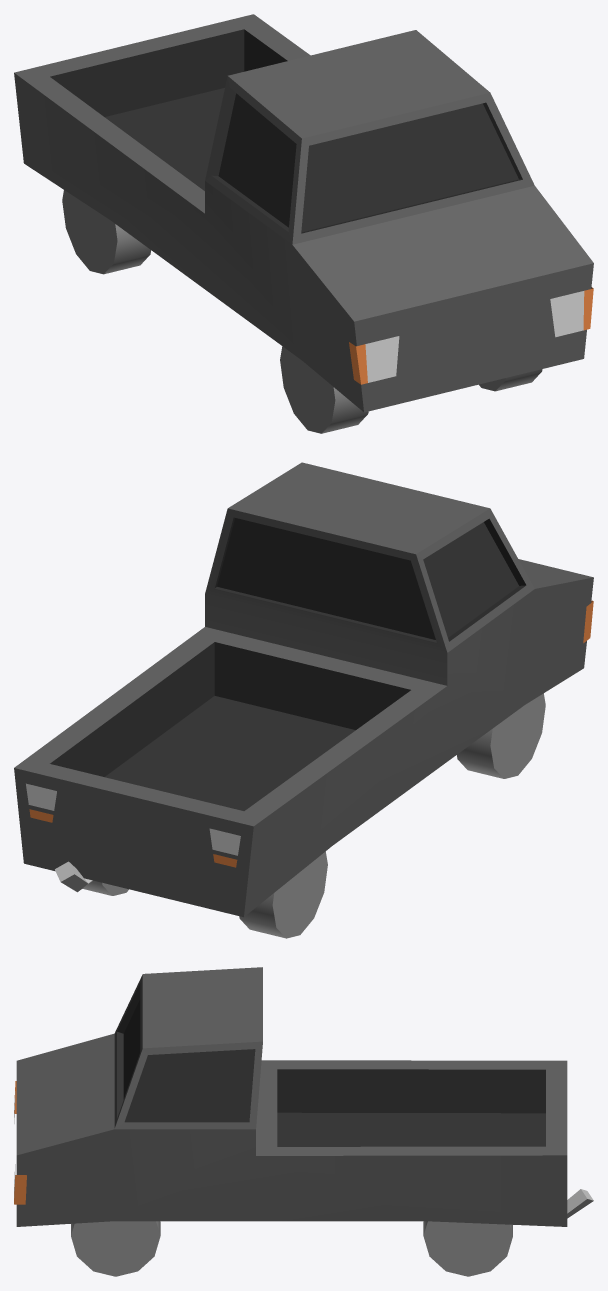
File: pickup_09.fbx
The picture shows the model from 3 angles, top to bottom: view 1: azimuth 30°, elevation 25°; view 2: azimuth 150°, elevation 25°; view 3: azimuth 270°, elevation 25°; orthographic projection. The views are drawn at different scales.
Visible parts, largest first — view 1: pickup_09; view 2: pickup_09; view 3: pickup_09.
Part boxes in pixels (bbox=[...]): pickup_09: bbox=[14, 14, 593, 433]; pickup_09: bbox=[14, 462, 593, 938]; pickup_09: bbox=[14, 967, 593, 1276].
Size of the model in its own units: 1.6 by 1.8 by 4.1.
